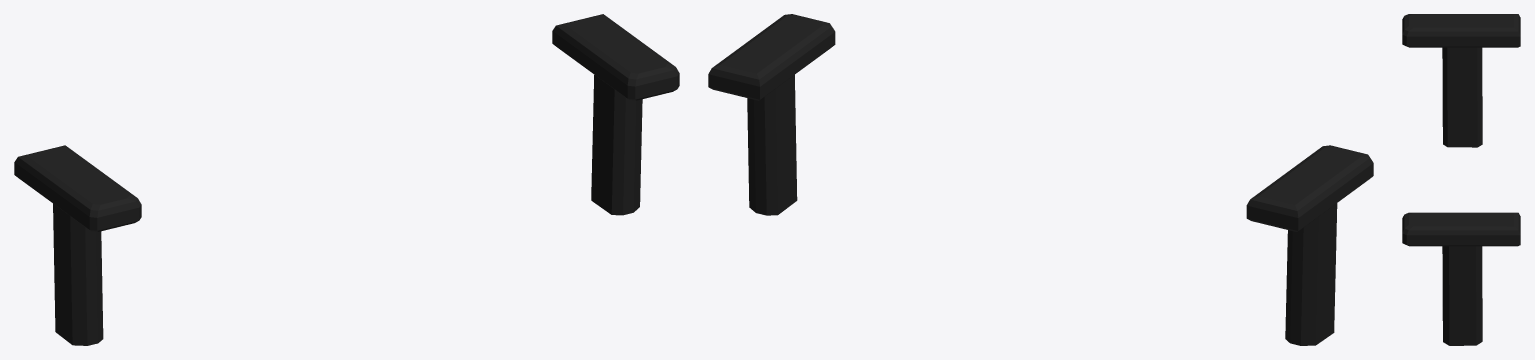
Rendered from Gaming_Chair_Arms_3.obj.
3 renders of one model, left to right at view 1: azimuth 30°, elevation 25°; view 2: azimuth 150°, elevation 25°; view 3: azimuth 270°, elevation 25°, orthographic. The views are drawn at different scales.
Parts seen in each view (by area): view 1: Gaming_Chair_Arms_3; view 2: Gaming_Chair_Arms_3; view 3: Gaming_Chair_Arms_3.
Boxes of the visible parts, x1,y1,x2,y2 form: Gaming_Chair_Arms_3: (14, 14, 679, 345); Gaming_Chair_Arms_3: (708, 14, 1373, 345); Gaming_Chair_Arms_3: (1402, 14, 1520, 345).
Size of the model in its own units: 0.734 by 0.19 by 0.1682.
